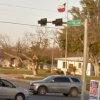Traffic light: (36, 12, 65, 31)
